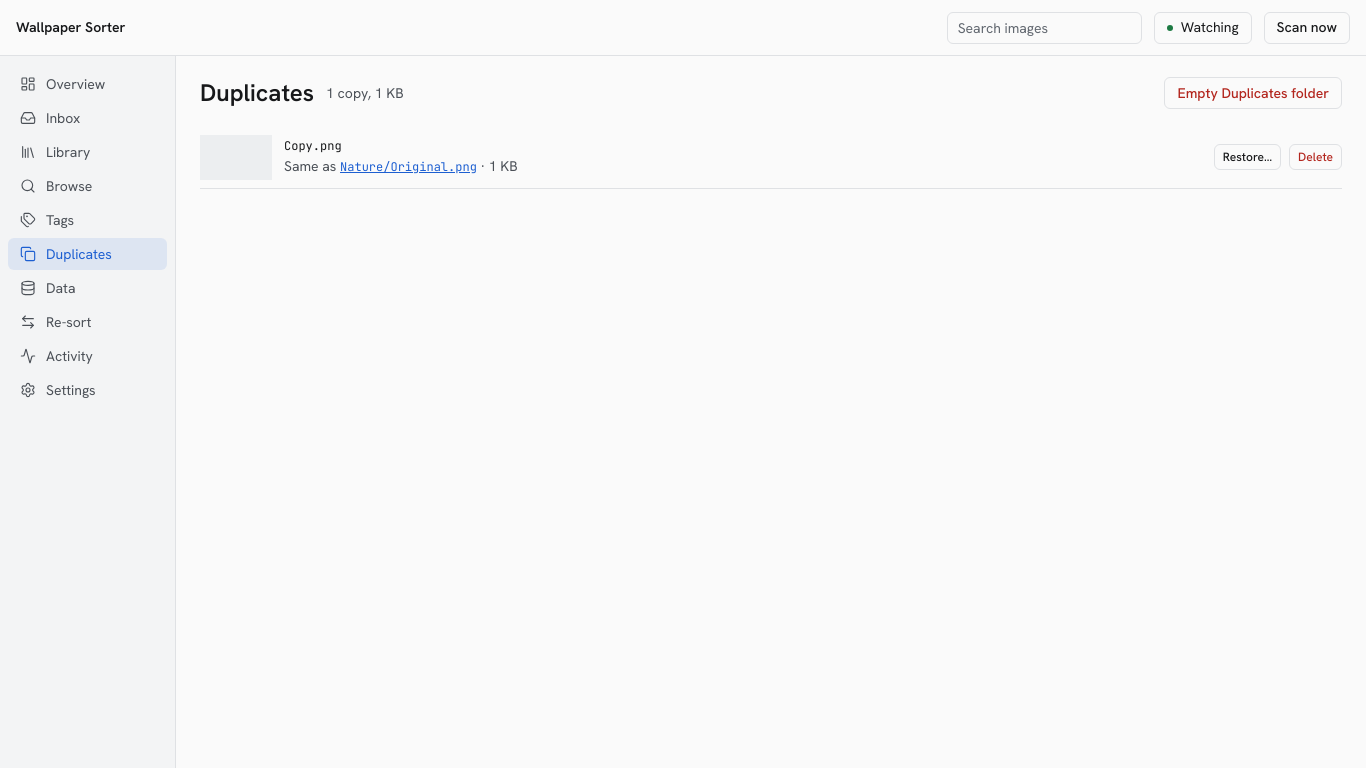
Test: lists duplicates and restores one as a new image
Expected: the text "Copy.png" is shown, [284,138,342,154]
Click the button "Restore…" at (1248, 157), box [1214,144,1281,170]
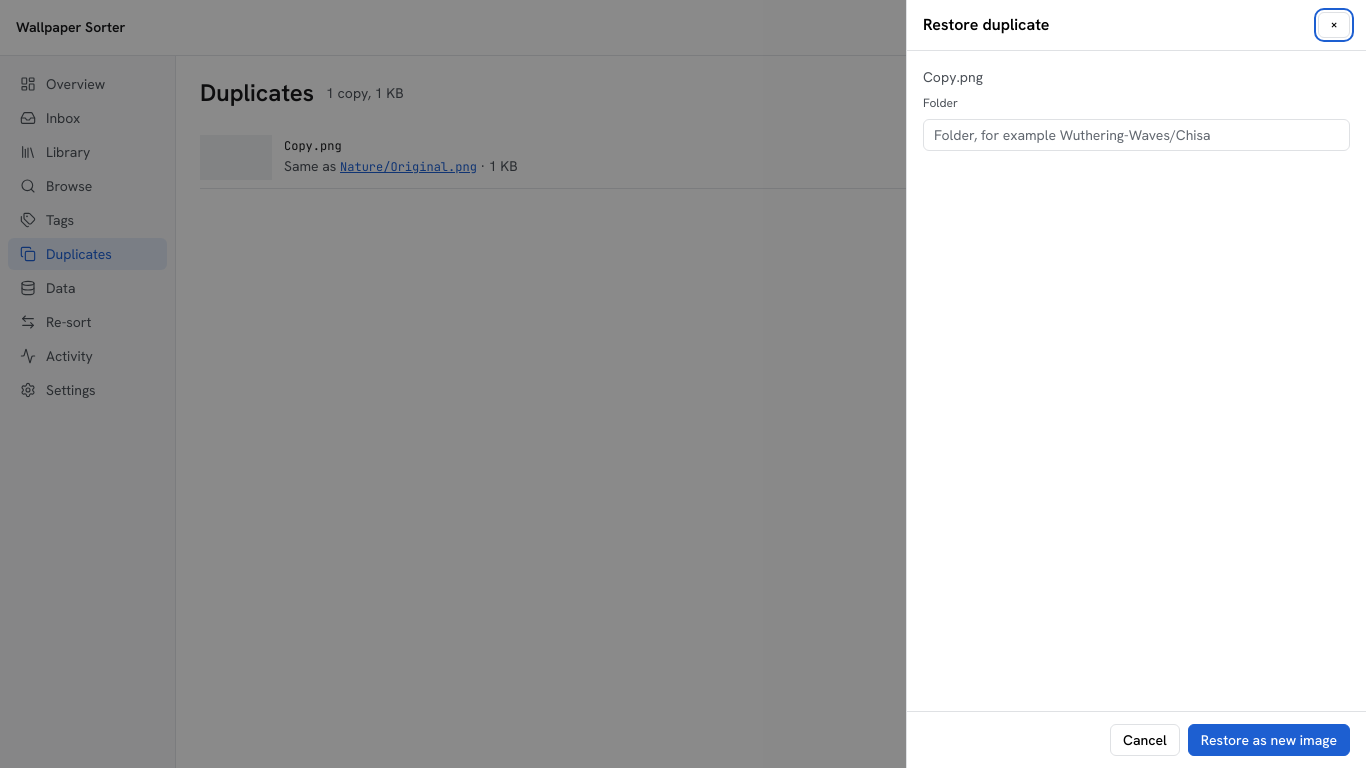
Type "Nature" into the field labelled "Folder" at (1136, 135), box [923,119,1350,151]
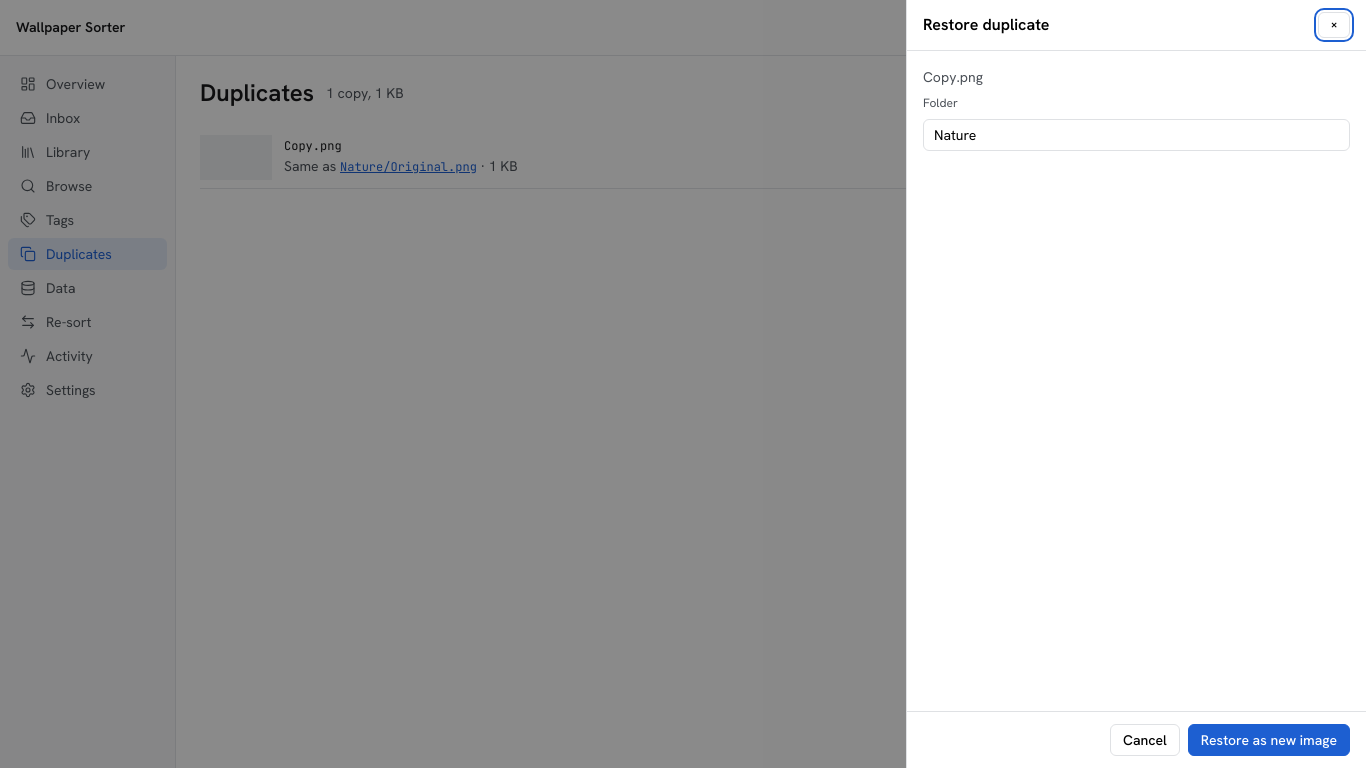
Click the button "Restore as new image" at (1269, 740), box [1188,724,1350,756]
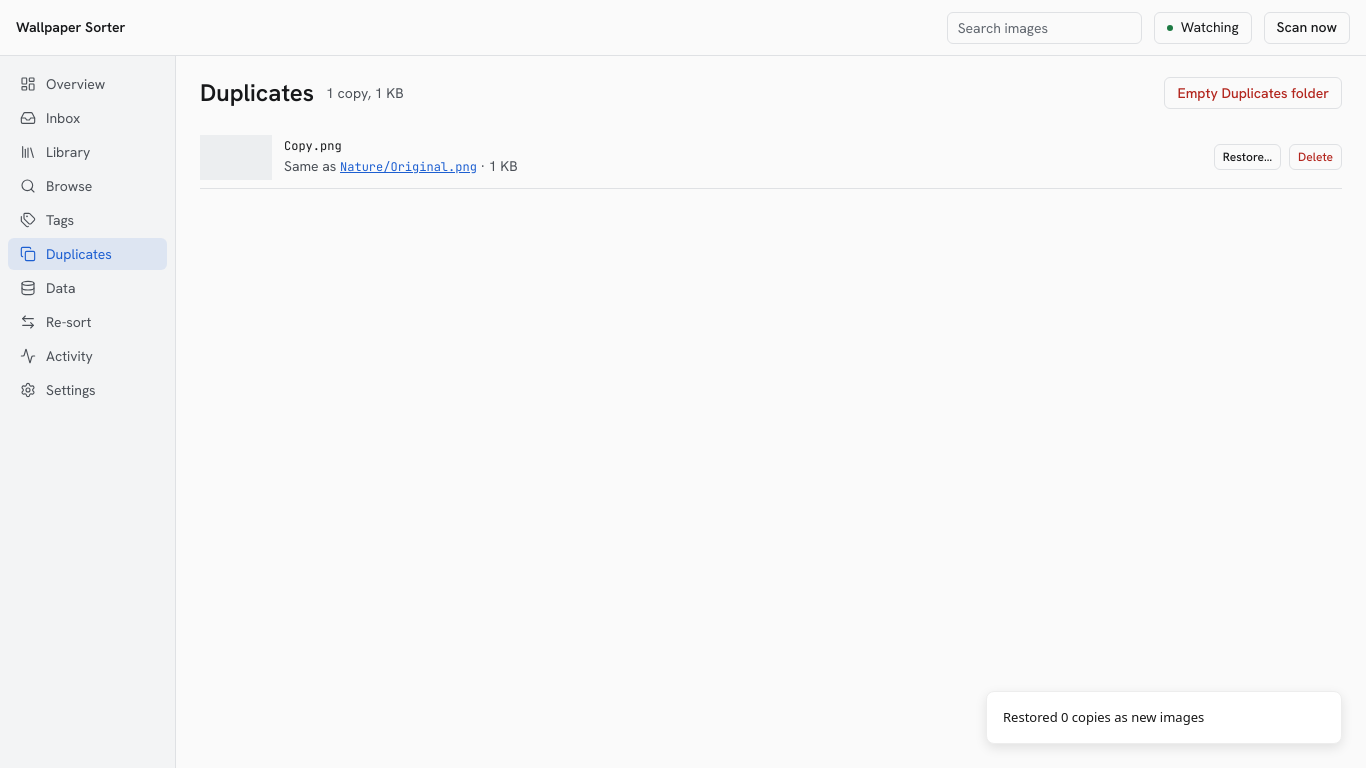
Result: the text "Restored 0 copies as new images" is shown at [1003,708,1204,727]
